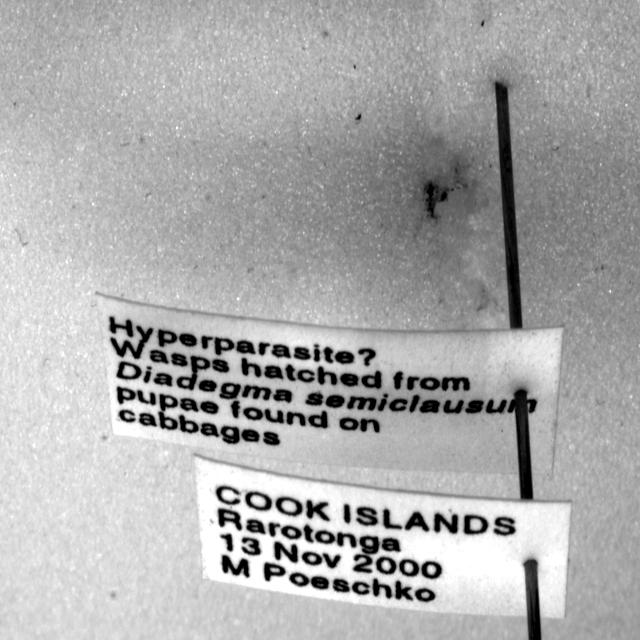typed_label: (98, 294, 564, 474), (195, 456, 571, 619)
